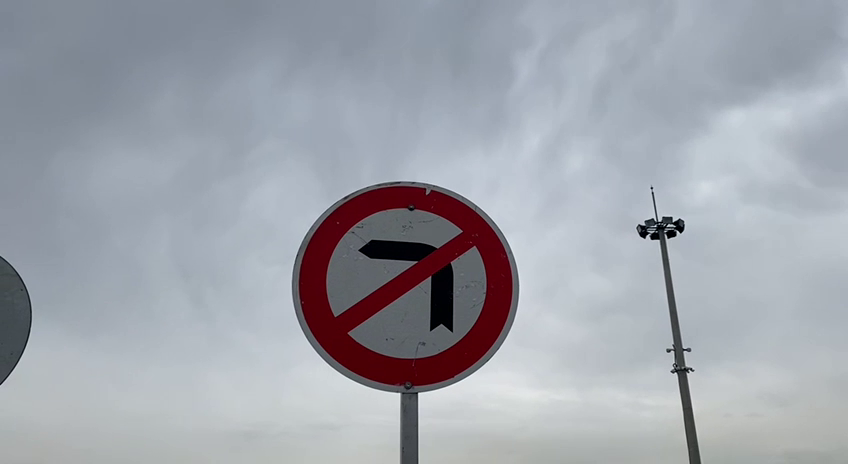noTurnLeft: (283, 178, 524, 401)
